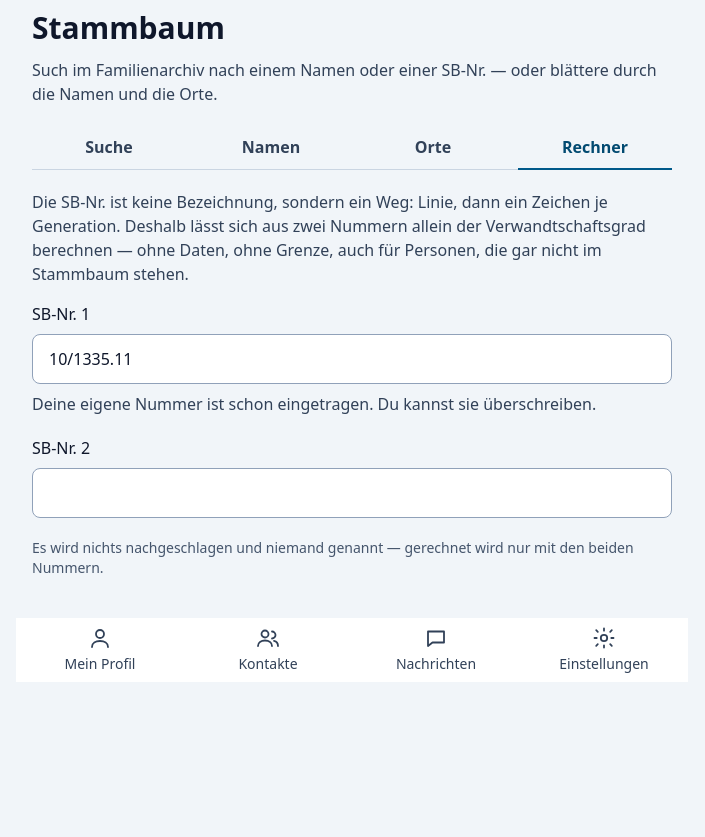
Scenario: the archive-number calculator › names the other ways they are related, after the nearest
Type "24/b6" into the field labelled "SB-Nr. 2".
click(352, 493); type("24/b6")  # box [32,468,672,518]
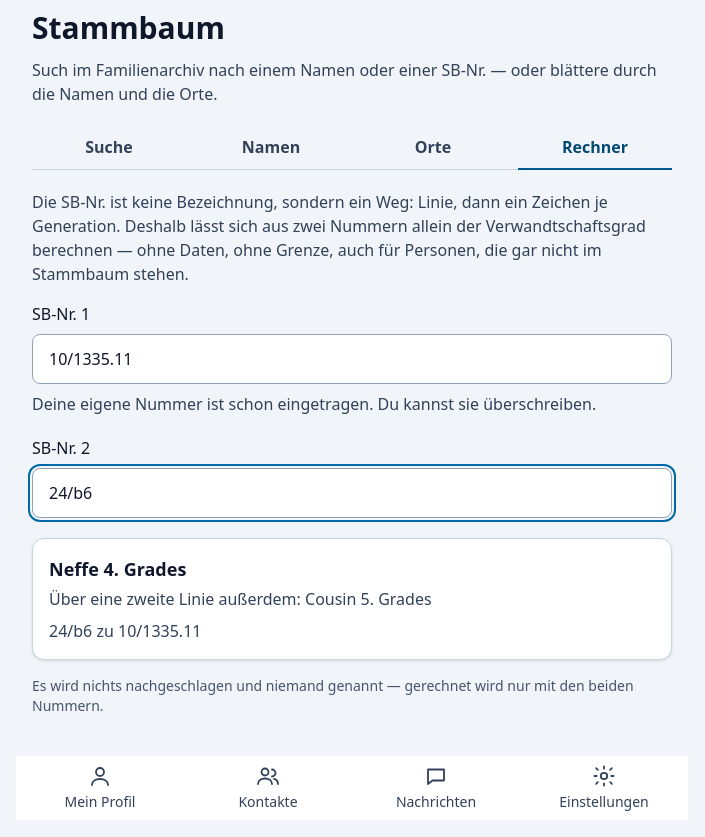
Expected: the text "Neffe 4. Grades" is shown, [49,557,186,581]
Expected: the text "Über eine zweite Linie außerdem: Cousin 5. Grades" is shown, [49,588,432,610]
